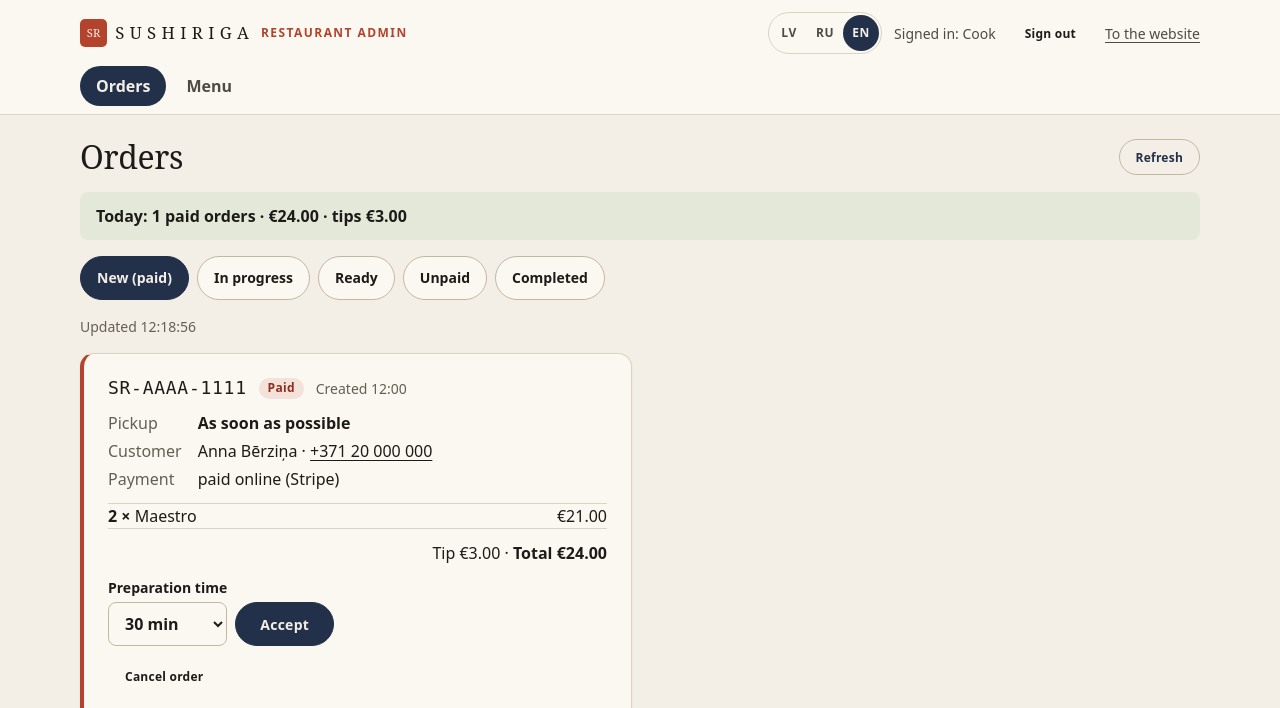
Scenario: admin panel › an expired session returns to the sign-in form with an explanation
The width and height of the screenshot is (1280, 708).
Expected: the heading "SR-AAAA-1111" is shown, [108, 378, 247, 399]
Click the button "Refresh". click: [1159, 157]
box: [1118, 139, 1200, 175]
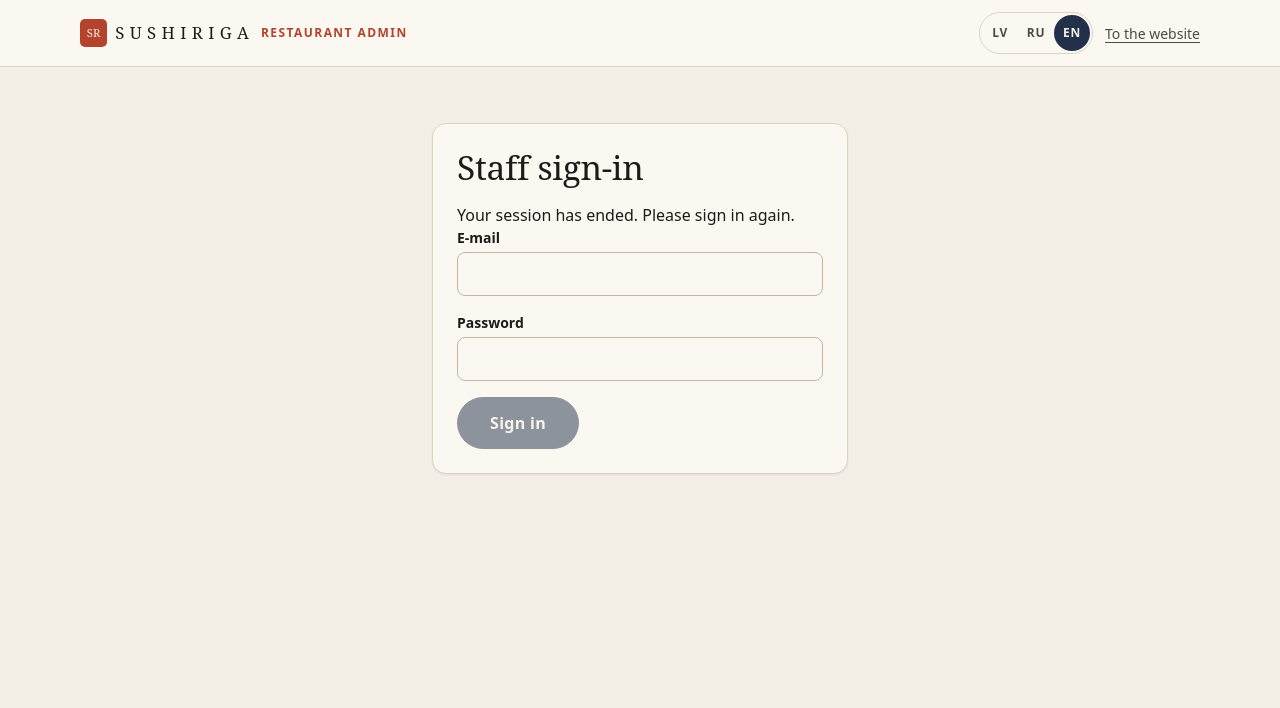
Expected: the text "Your session has ended. Please sign in again." is shown, [457, 203, 823, 227]
Expected: the password field labelled "Password" is shown, [457, 337, 823, 381]
